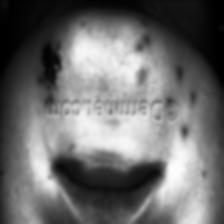Toxin: (31, 36, 68, 87)
